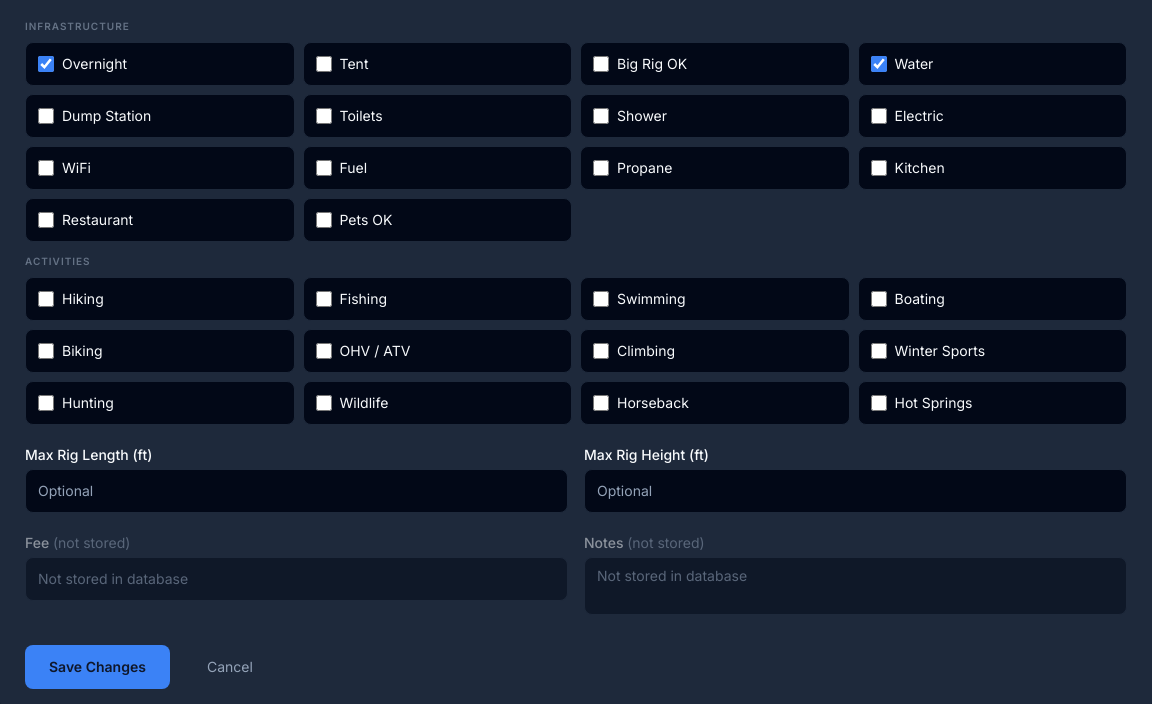
Test case: EditPinForm › shows error message when PATCH fails (6.12)
(page scrolled)
Click the button "Save Changes": (97, 667) [25,645,170,689]
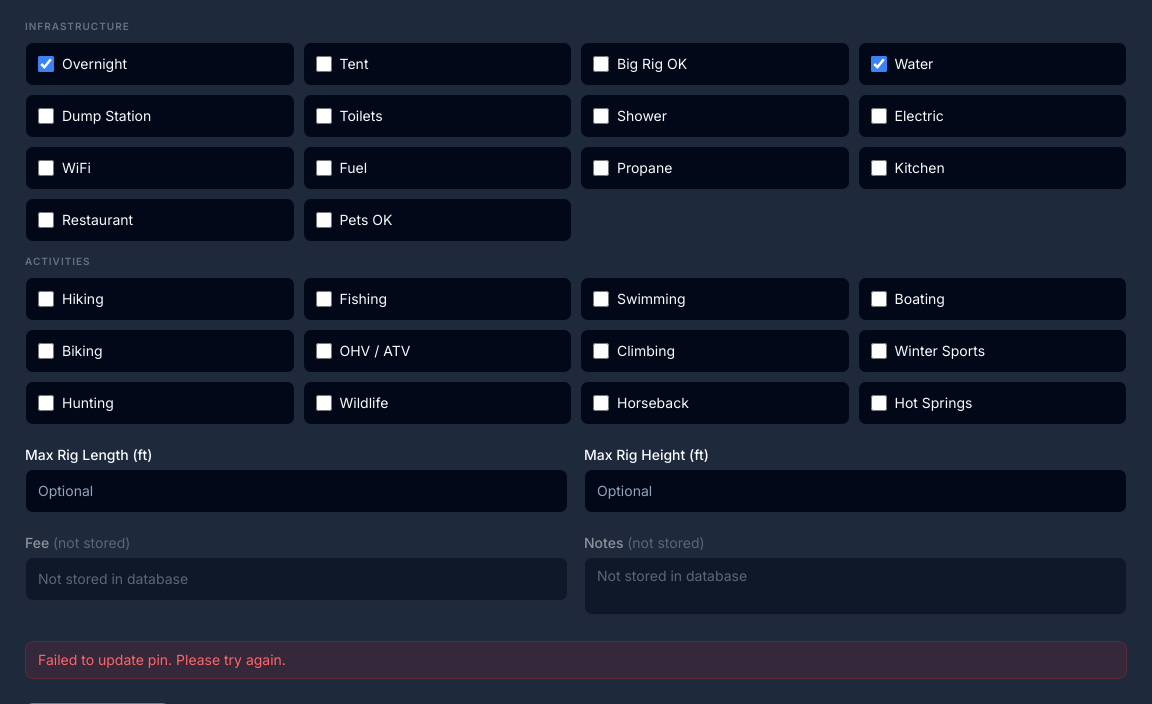
Check: the text "Failed to update pin. Please try again." is shown, box [25,641,1127,679]
